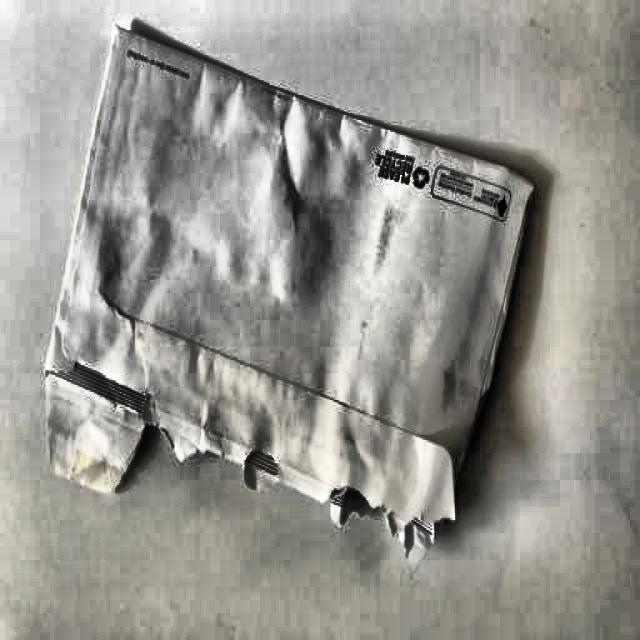paper: (44, 14, 538, 574)
